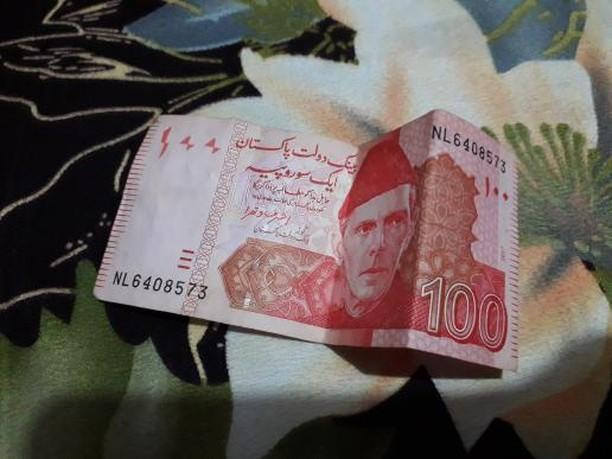100 rupee: (91, 107, 524, 364)
